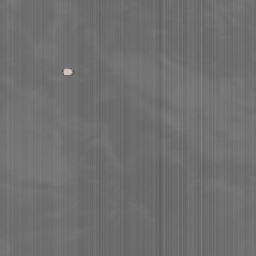Target: (61, 67, 75, 77)
